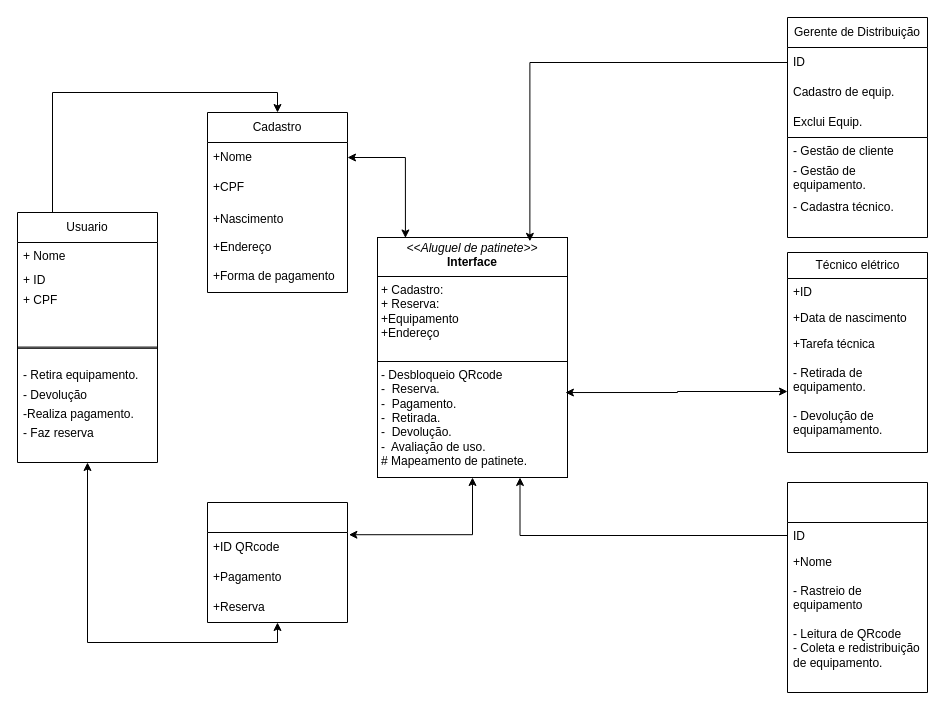
Image size: 945x713. Some labels were removed from this diagram. The shapes that lost their labels are listed below. From the top down, each one's box as (x1, y1, x2, y2) in pixels, then its label:
(206, 502, 348, 622): Aluguel
(786, 482, 928, 692): Distribuidor de patinete
